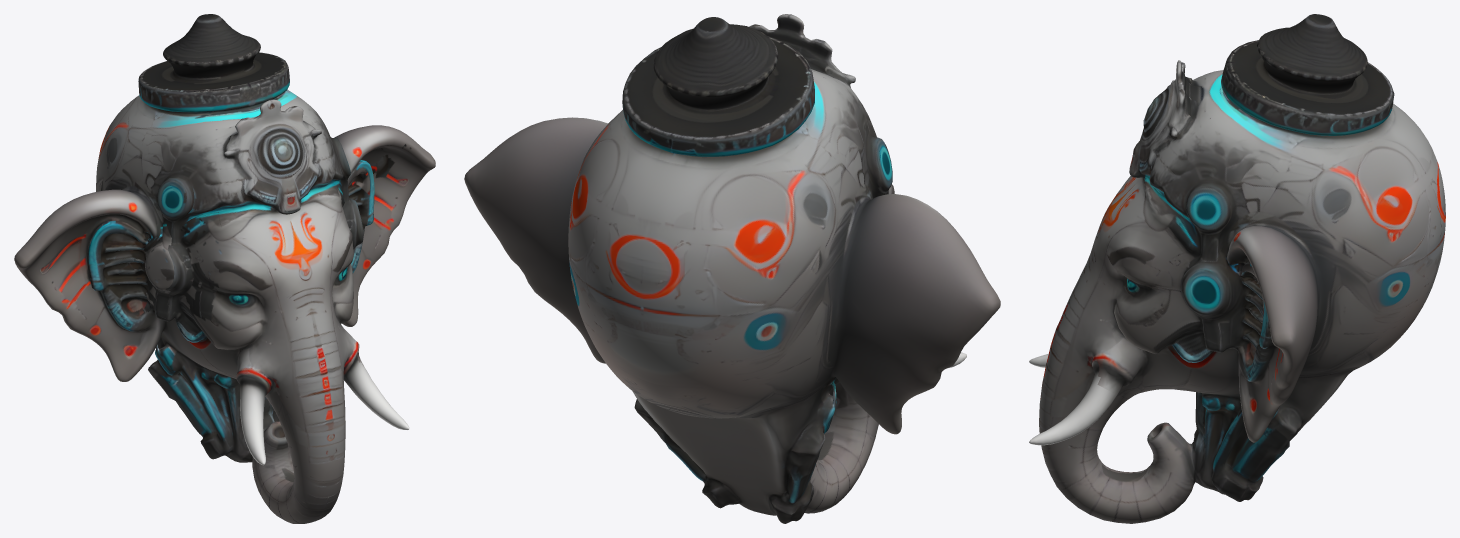
Rendered from Ganesha.glb.
3 views of the same model, side by side, from view 1: azimuth 30°, elevation 25°; view 2: azimuth 150°, elevation 25°; view 3: azimuth 270°, elevation 25° (orthographic). The views are drawn at different scales.
Visible parts, largest first — view 1: model; view 2: model; view 3: model.
Boxes of the visible parts, x1,y1,x2,y2 form: model: [14, 14, 435, 523]; model: [464, 14, 1000, 523]; model: [1029, 14, 1445, 523].
Bounding box in the file's own units: 1.89 × 1.91 × 1.43.
1 material, 1 textured.
